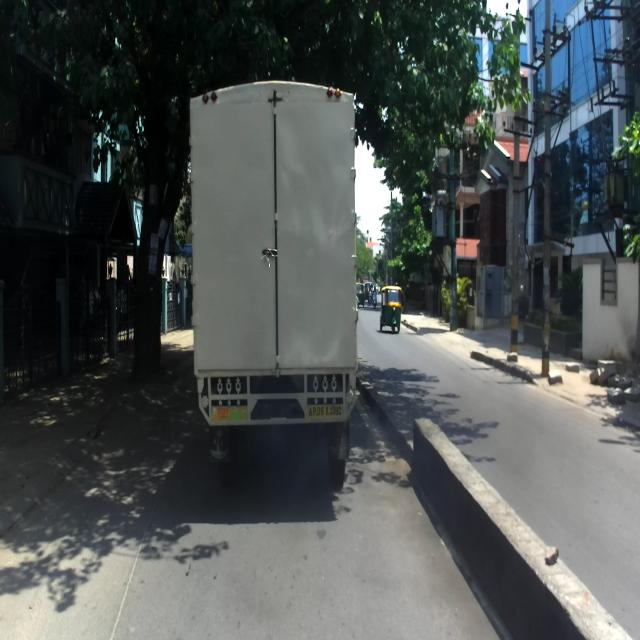truck ahead at: (180, 72, 360, 491)
